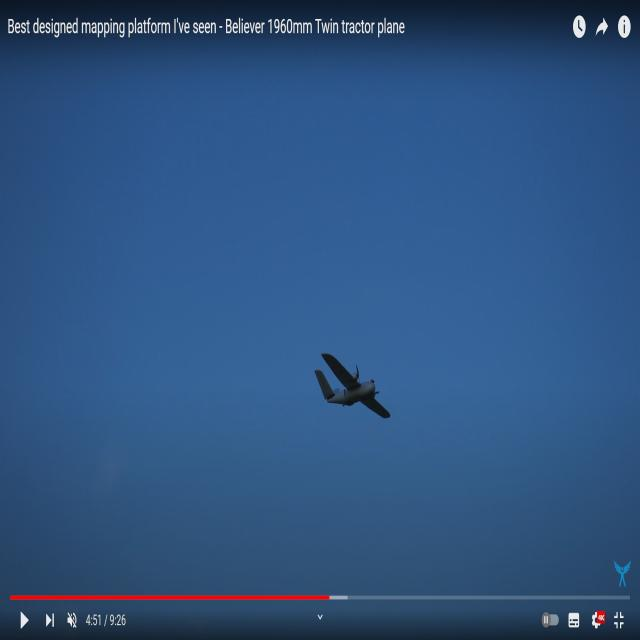iha: (348, 355, 354, 417)
